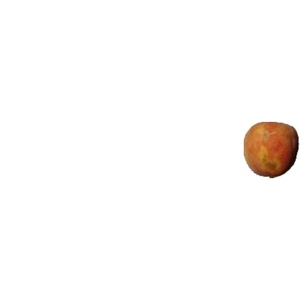pêssego: (241, 122, 300, 179)
